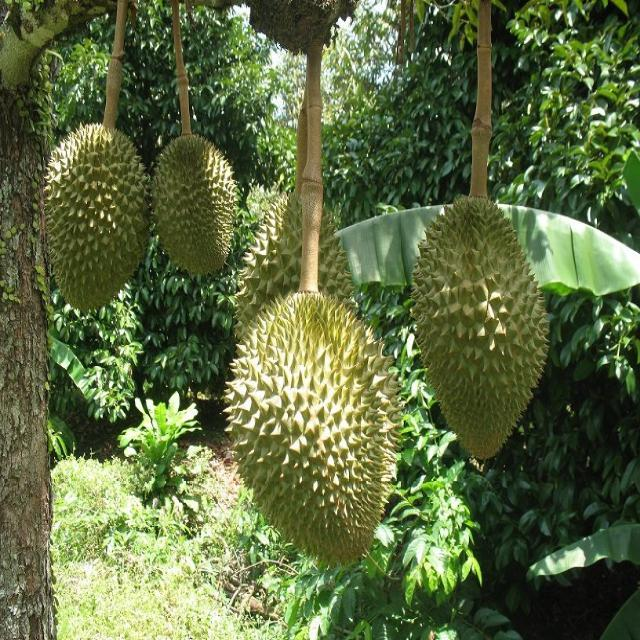immature: (223, 289, 401, 573), (412, 192, 551, 460), (38, 118, 150, 313), (146, 134, 238, 280)
